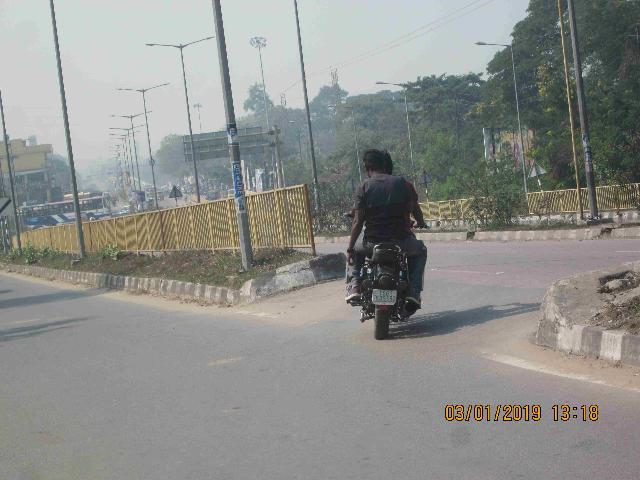motor: (342, 212, 432, 343)
non-helm: (363, 150, 395, 179)
